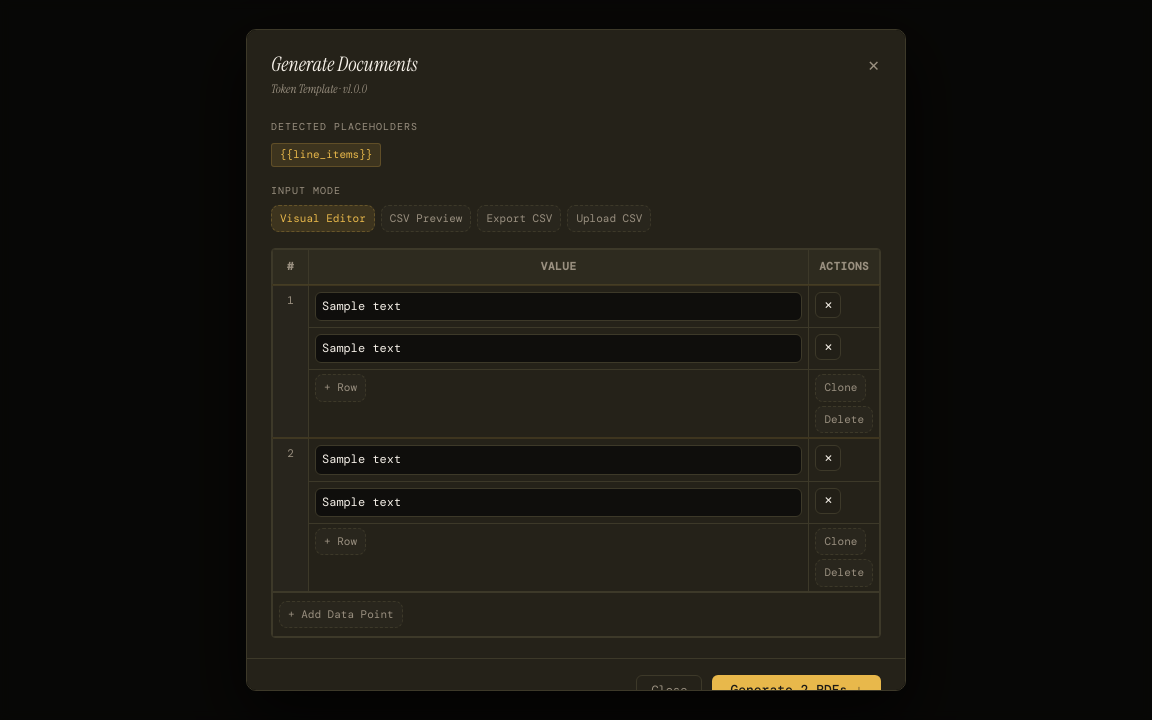
Test case: GenerateModal premium visual/json workflow › edits repeat placeholders visually and syncs JSON
Replace the text in the 1st field with placeholder "Item 1" with "Pen": (559, 306) [315, 292, 802, 321]
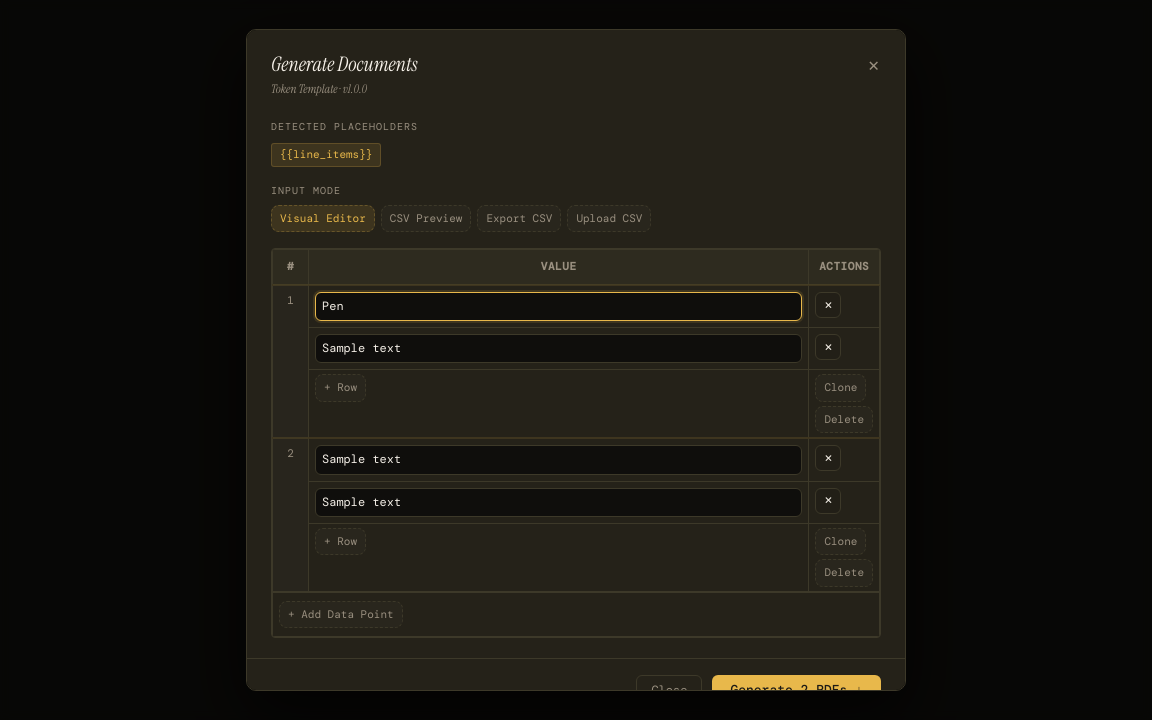
// Add a new item via the "+ Row" button (use first data point's button)
Click the 1st button "+ Row": (340, 388) [315, 374, 366, 402]
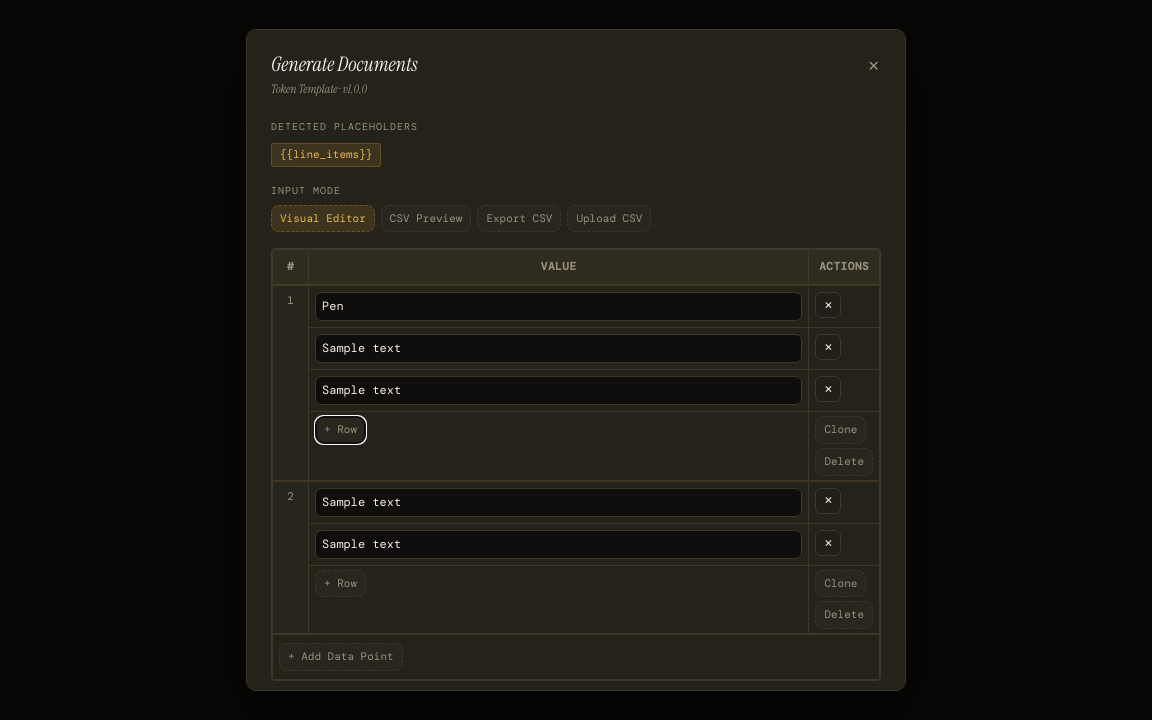
In the 2nd field with placeholder "Item 2": (559, 349) [315, 334, 802, 363], type "Paper"
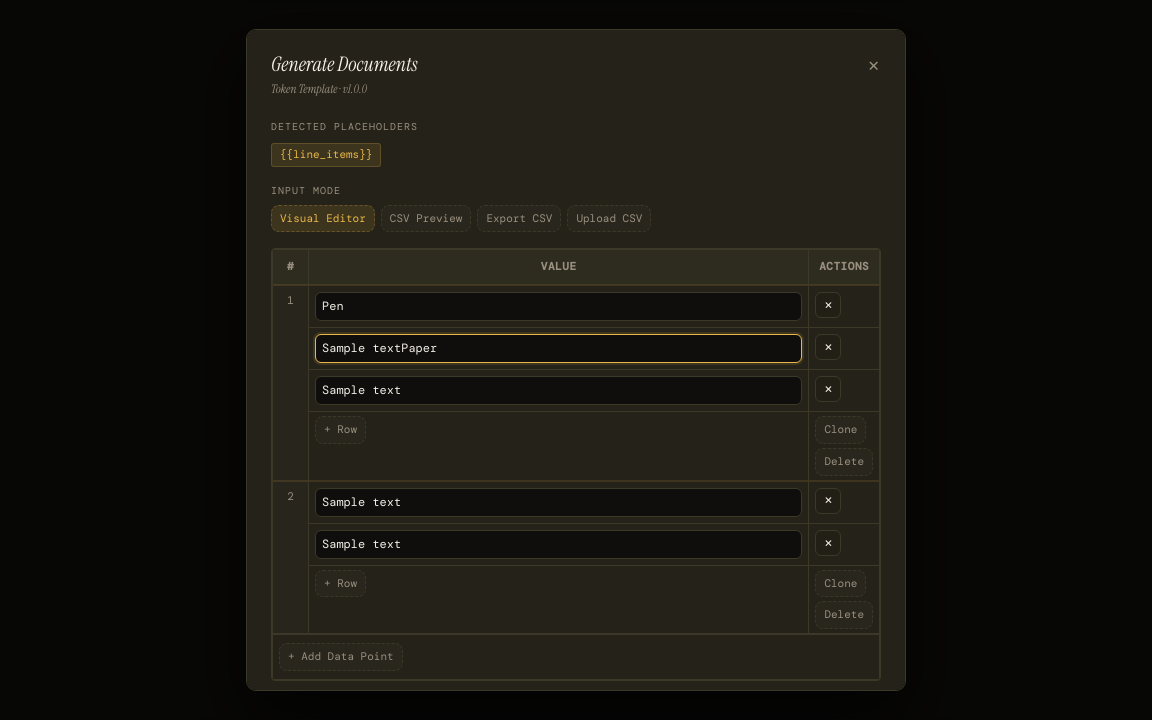
Click the button "CSV Preview": (426, 218) [381, 205, 471, 232]
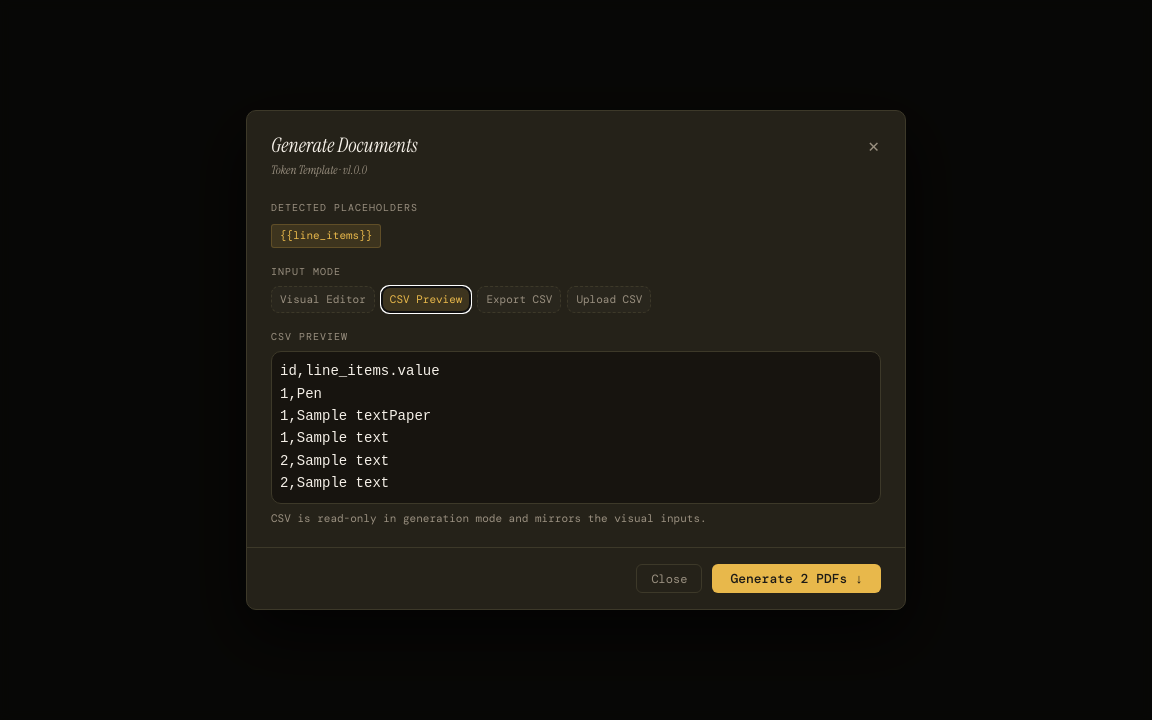
expect the text named "CSV Preview" shows "line_items": met, box [280, 363, 440, 491]
expect the text named "CSV Preview" shows "Pen": met, box [271, 351, 881, 504]
expect the text named "CSV Preview" shows "Paper": met, box [280, 363, 440, 491]
